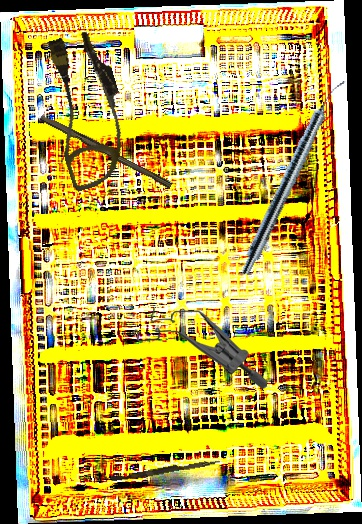Cannula: (30, 26, 144, 193)
Handpiece: (237, 73, 347, 280)
Pusher: (111, 455, 221, 485)
Scalpel Handle: (38, 112, 175, 189)
Speculum: (131, 304, 269, 392)
